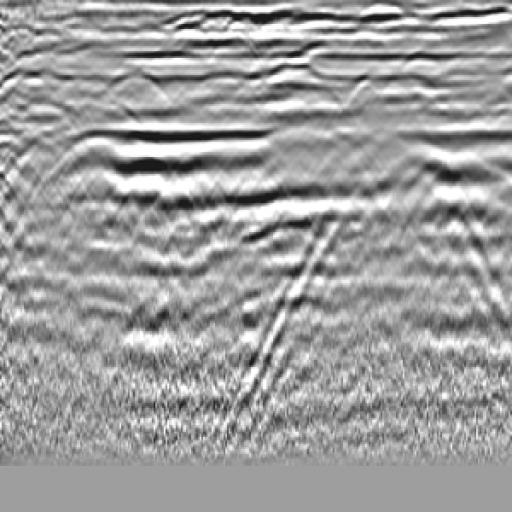non-metallic: (246, 123, 507, 424)
